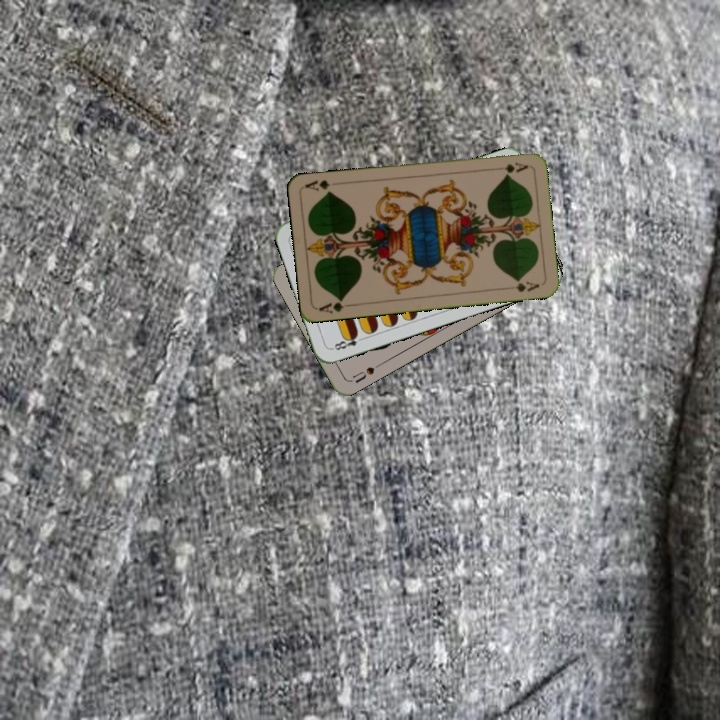E8: (328, 329, 367, 353)
GA: (315, 294, 355, 316), (490, 158, 530, 176)
SU: (346, 359, 384, 386)
